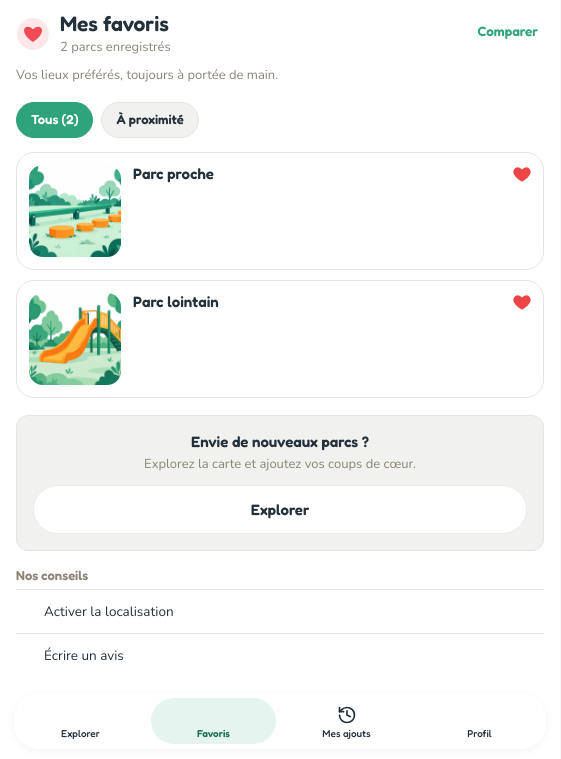
Test: Favorites — filters › after granting location from that state, the nearby filter recalculates automatically
This screenshot has width=561, height=759.
Expected: the text "Parc proche" is shown, [133, 164, 214, 183]
Click the button "À proximité".
click(150, 120)  # box [101, 102, 199, 138]
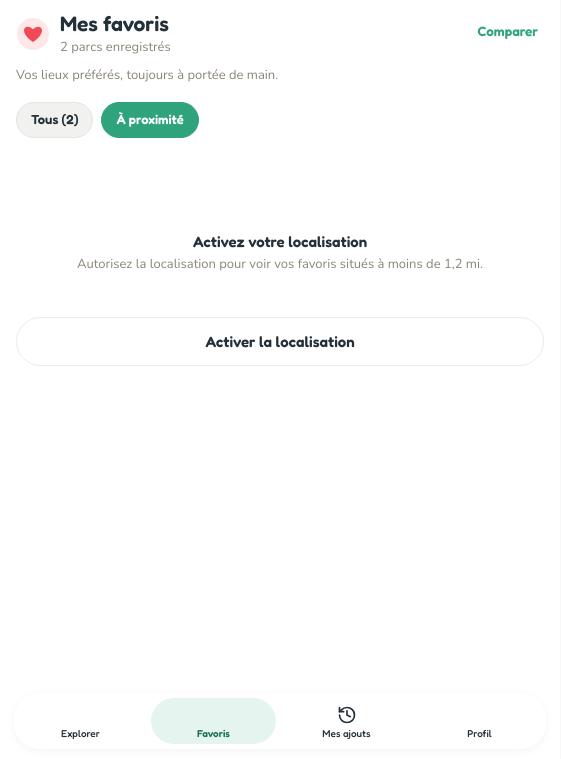
Expected: the text "Activez votre localisation" is shown, [193, 232, 367, 251]
Click the button "Activer la localisation".
click(280, 342)  # box [16, 317, 544, 366]
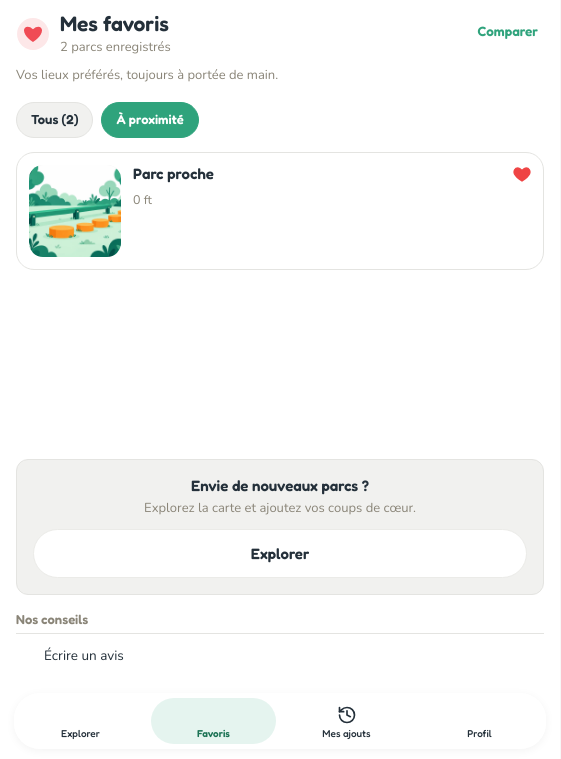
Expected: the button "Parc lointain" is not shown
Expected: the text "Activez votre localisation" is gone
Expected: the text "Parc proche" is shown, [133, 164, 214, 183]
